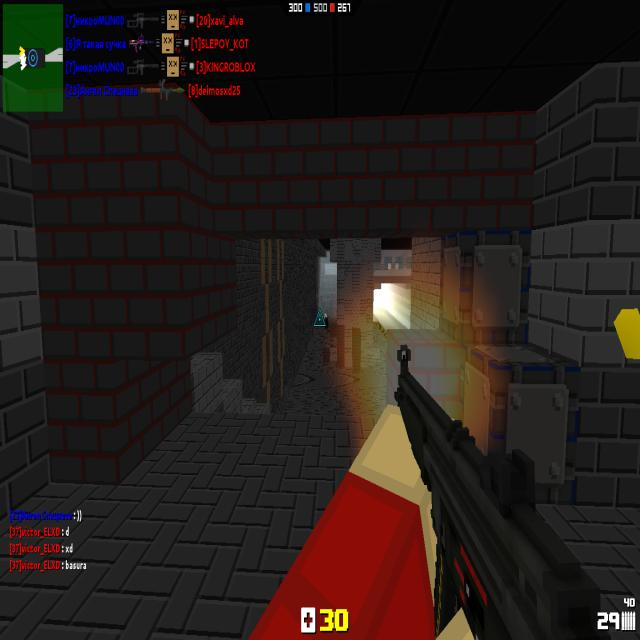enemy: (324, 312, 329, 331)
